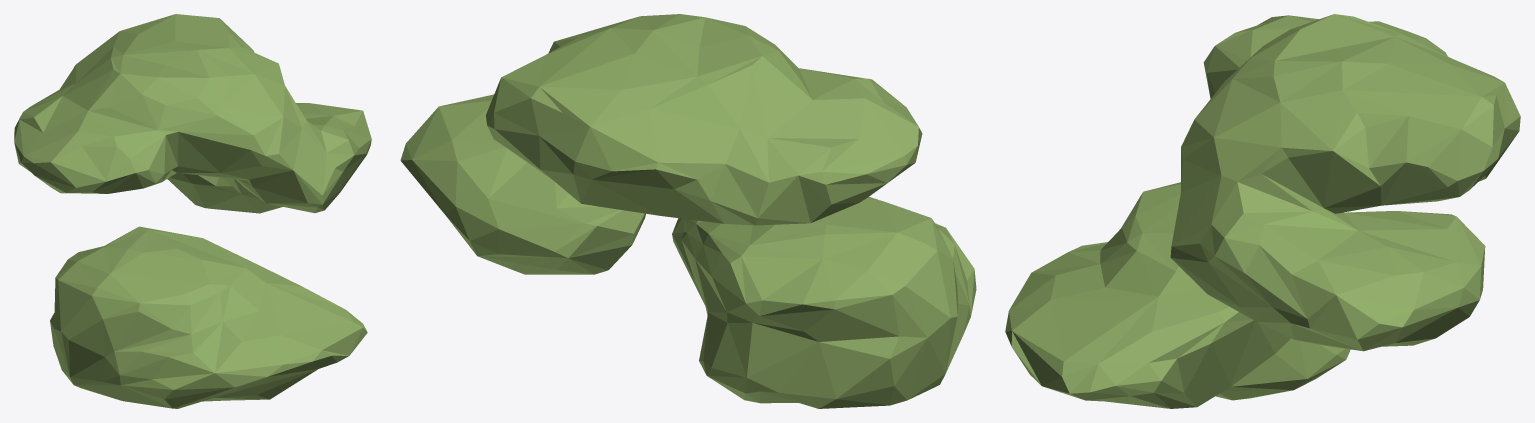
Rendered from TREE2_leaves.fbx.
3 renders of one model, left to right at view 1: azimuth 30°, elevation 25°; view 2: azimuth 150°, elevation 25°; view 3: azimuth 270°, elevation 25°, orthographic. The views are drawn at different scales.
Visible parts, largest first — view 1: polySurface8; view 2: polySurface8; view 3: polySurface8.
Part boxes in pixels (x1,y1,x2,y2): polySurface8: (14, 14, 371, 408); polySurface8: (400, 14, 976, 408); polySurface8: (1005, 14, 1520, 408).
Size of the model in its own units: 23.07 by 17.4 by 22.
